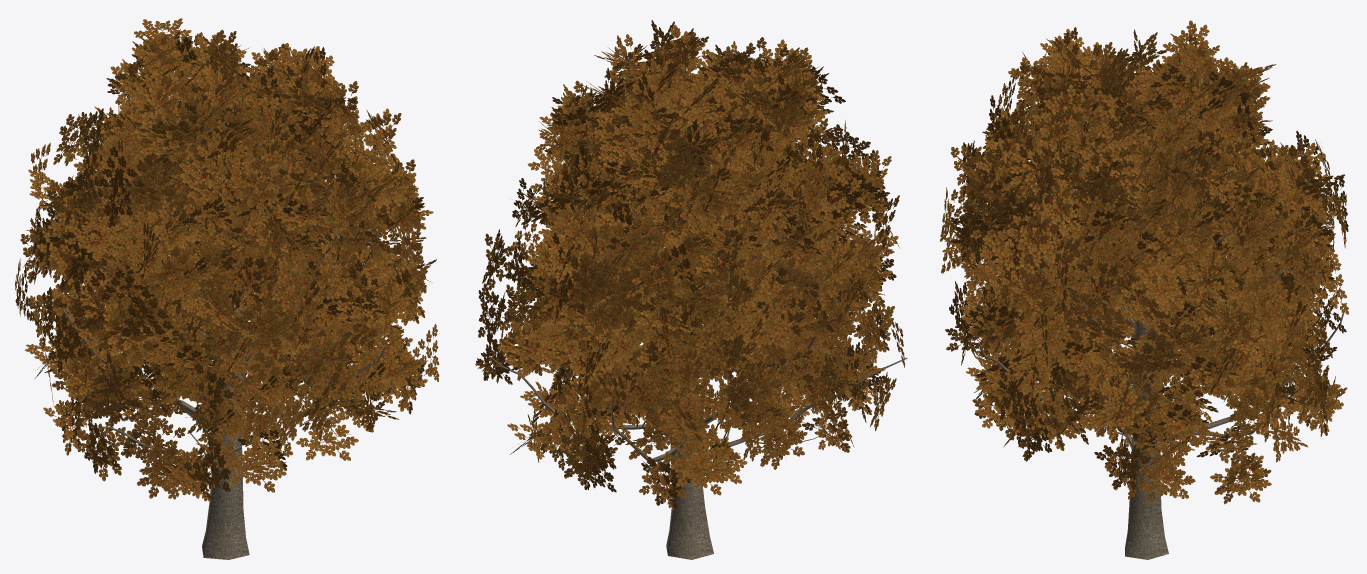
File: Fagus_Sylvatica_Autumn_Adult.glb
The picture shows the model from 3 angles, left to right: view 1: azimuth 30°, elevation 25°; view 2: azimuth 150°, elevation 25°; view 3: azimuth 270°, elevation 25°; orthographic projection.
Parts seen in each view (by area): view 1: Fagus_Sylvatica_Autumn_Adult__LOD3; view 2: Fagus_Sylvatica_Autumn_Adult__LOD3; view 3: Fagus_Sylvatica_Autumn_Adult__LOD3.
Boxes of the visible parts, x1,y1,x2,y2 form: Fagus_Sylvatica_Autumn_Adult__LOD3: (15, 18, 439, 559); Fagus_Sylvatica_Autumn_Adult__LOD3: (475, 20, 907, 559); Fagus_Sylvatica_Autumn_Adult__LOD3: (940, 20, 1348, 559).
Size of the model in its own units: 17.29 by 24.5 by 18.2.
Materials: 2 (2 with a texture image).
